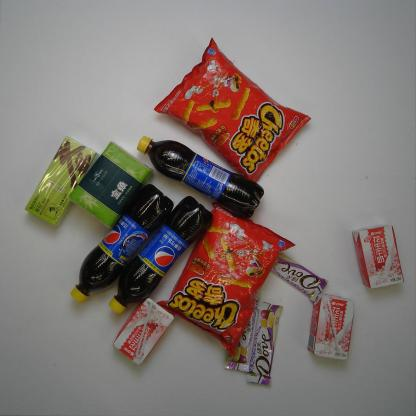Chocolate: (261, 244, 329, 302), (247, 300, 284, 388), (226, 290, 261, 374)
Drink: (70, 181, 176, 302), (107, 194, 212, 316), (136, 134, 265, 220)
Instant Drink: (24, 133, 98, 227)
Milk: (111, 295, 173, 367), (350, 220, 405, 291), (308, 294, 355, 360)
Puffed Food: (151, 35, 312, 186), (152, 202, 297, 357)
Tissue: (65, 139, 154, 231)
